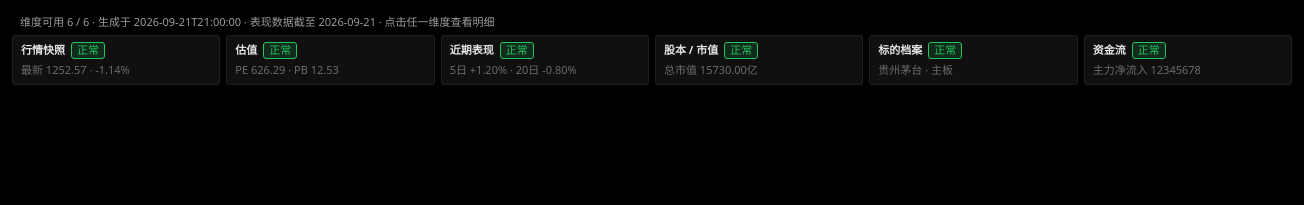
Test: FundamentalsPanel · 6 维一排 + 默认收起 › 展开另一维会替换前一维（不会同时铺开两块）
Click the button titled "展开「近期表现」明细": point(545, 60) [441,34,649,85]
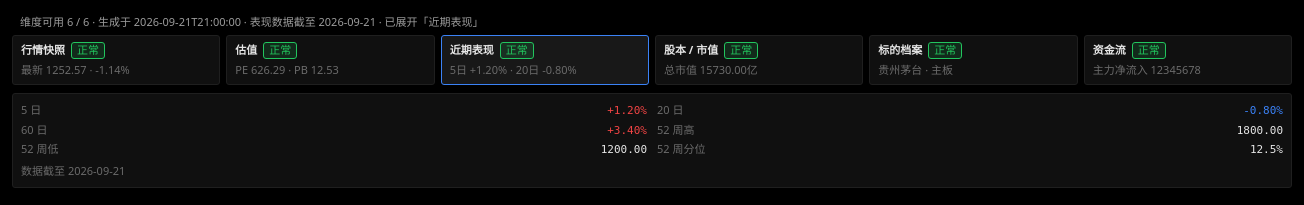
Expected: the text "52 周高" is shown, [657,122,694,138]
Click the button titled "展开「股本 / 市值」明细": point(759, 60) [655,34,863,85]
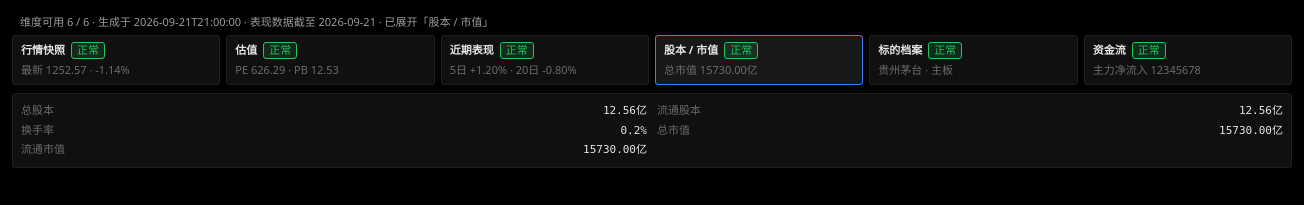
Expected: the text "总股本" is shown, [21,102,54,118]
Expected: the text "52 周高" is gone
